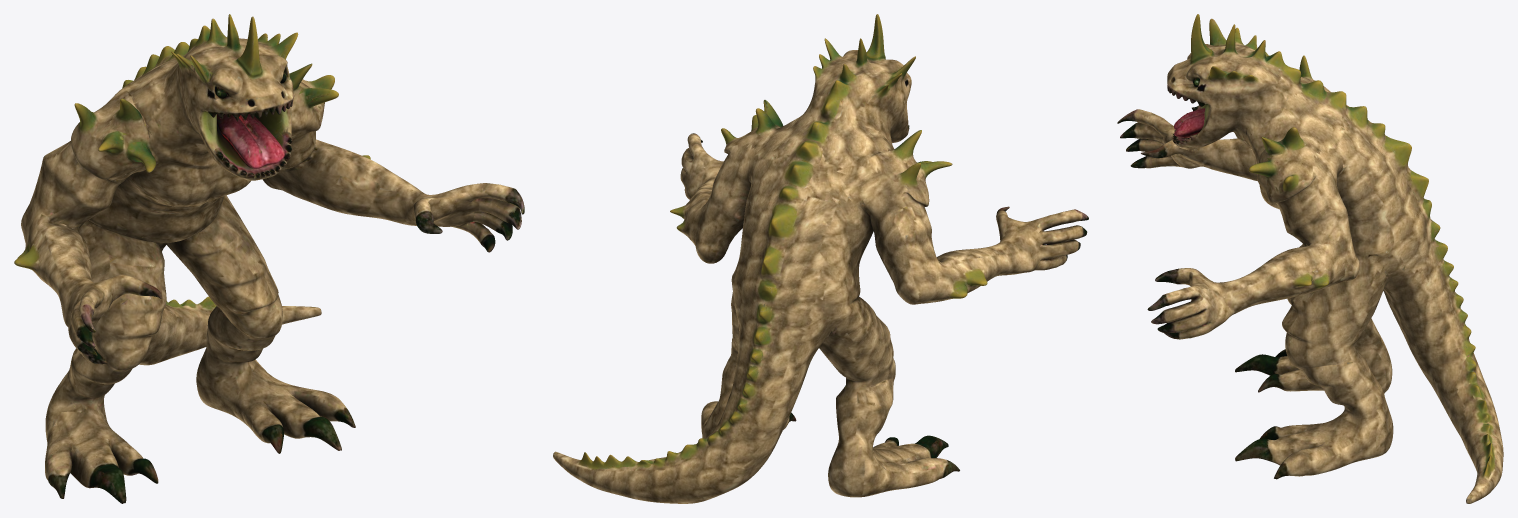
The model's file is MZ4250 - Troglodyte 2.glb.
The picture shows the model from 3 angles, left to right: view 1: azimuth 30°, elevation 25°; view 2: azimuth 150°, elevation 25°; view 3: azimuth 270°, elevation 25°; orthographic projection. The views are drawn at different scales.
Parts seen in each view (by area): view 1: default; view 2: default; view 3: default.
Part boxes in pixels (x1,y1,x2,y2): default: (14, 14, 524, 503); default: (553, 14, 1088, 503); default: (1117, 14, 1503, 503).
Bounding box in the file's own units: 1.01 × 1.01 × 0.8694.
1 material, 1 textured.
